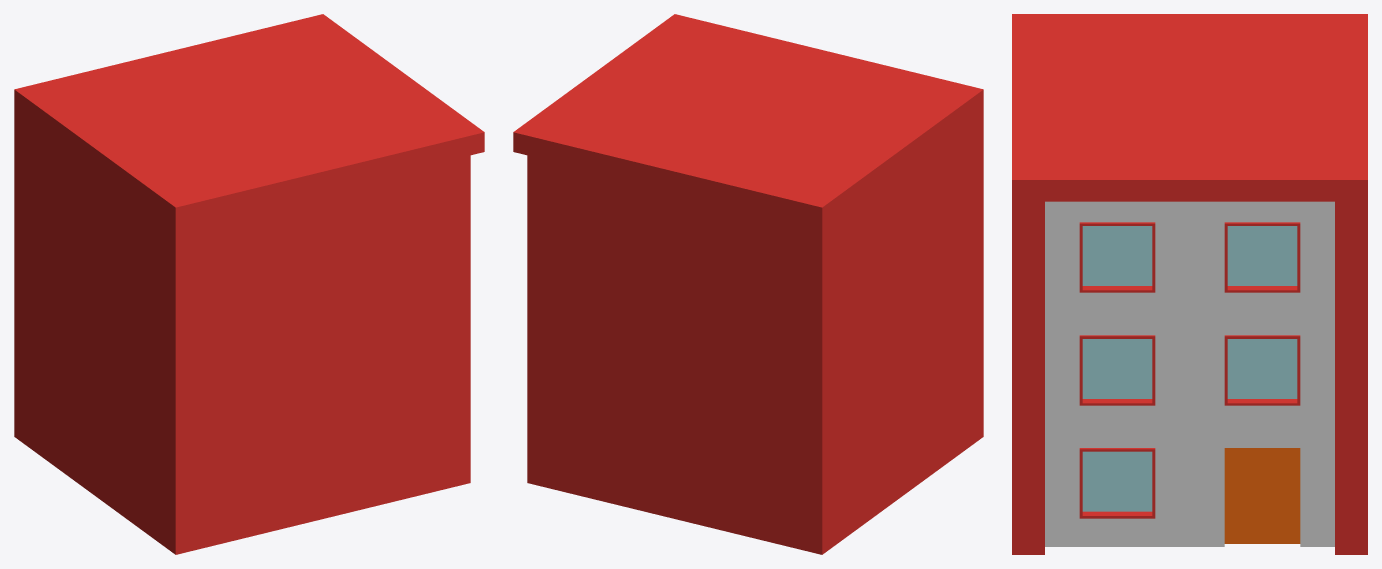
File: Building 7.fbx
3 renders of one model, left to right at view 1: azimuth 30°, elevation 25°; view 2: azimuth 150°, elevation 25°; view 3: azimuth 270°, elevation 25°, orthographic. The views are drawn at different scales.
Parts seen in each view (by area): view 1: Building 70; view 2: Building 70; view 3: Building 70.
Part boxes in pixels (x1,y1,x2,y2): Building 70: [14, 14, 484, 554]; Building 70: [513, 14, 983, 554]; Building 70: [1012, 14, 1367, 554].
Size of the model in its own units: 883 by 949 by 800.
